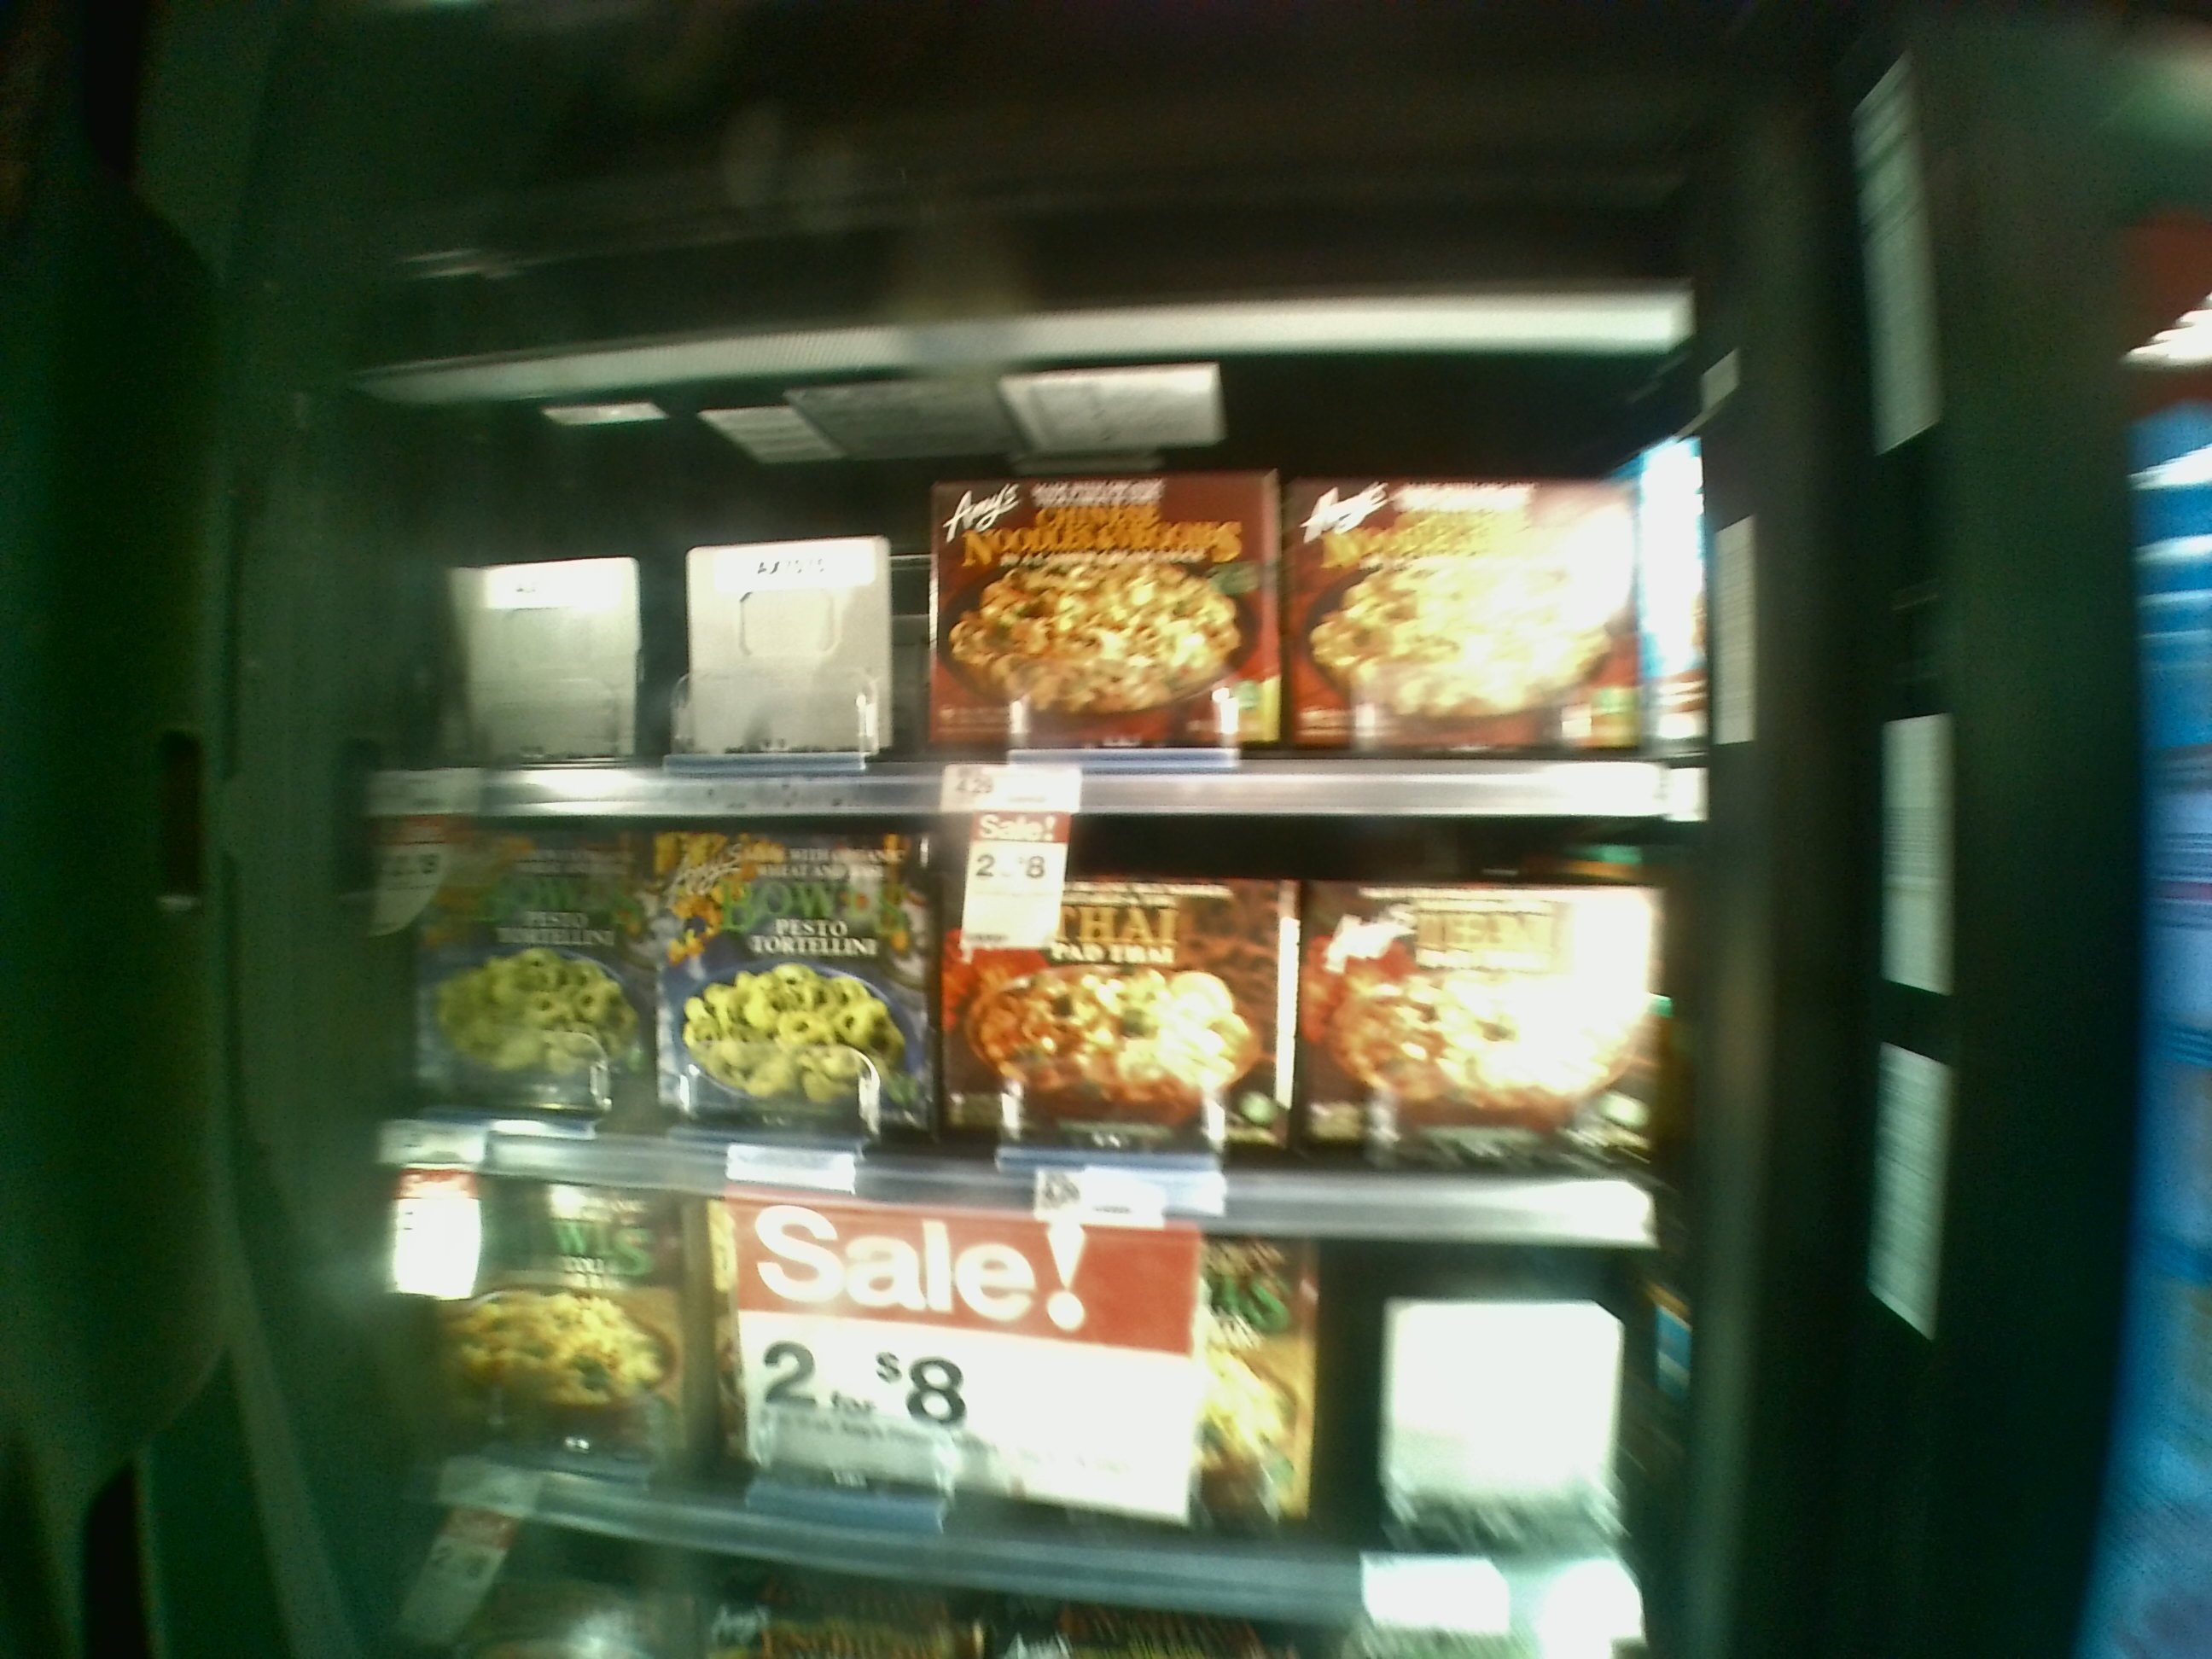shelf: (362, 385, 1689, 829), (402, 1197, 1663, 1624), (381, 838, 1669, 1244)
